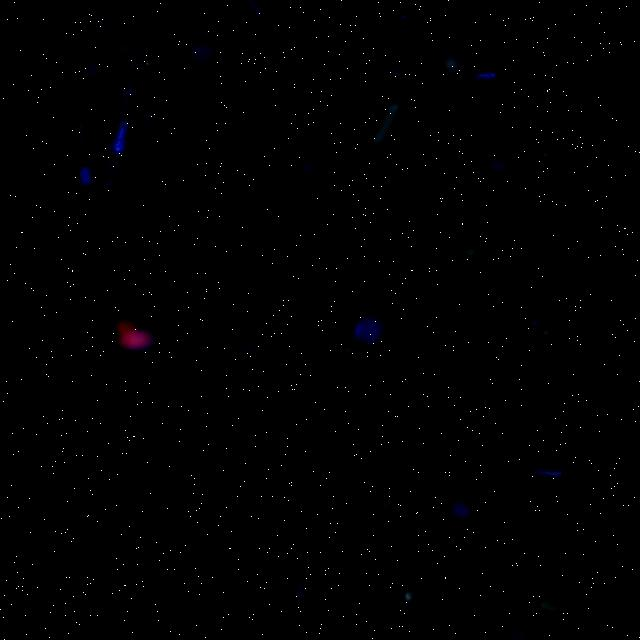microbeads: (436, 52, 462, 74)
